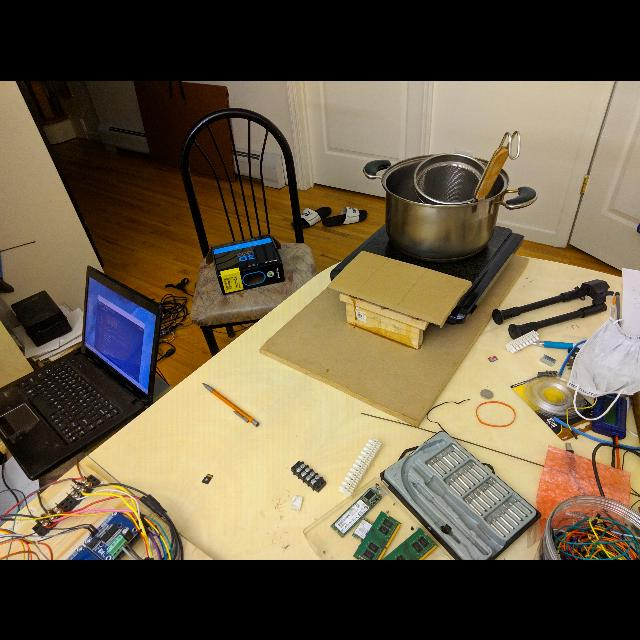Handle: (476, 130, 524, 202)
Strainer: (414, 150, 492, 204)
